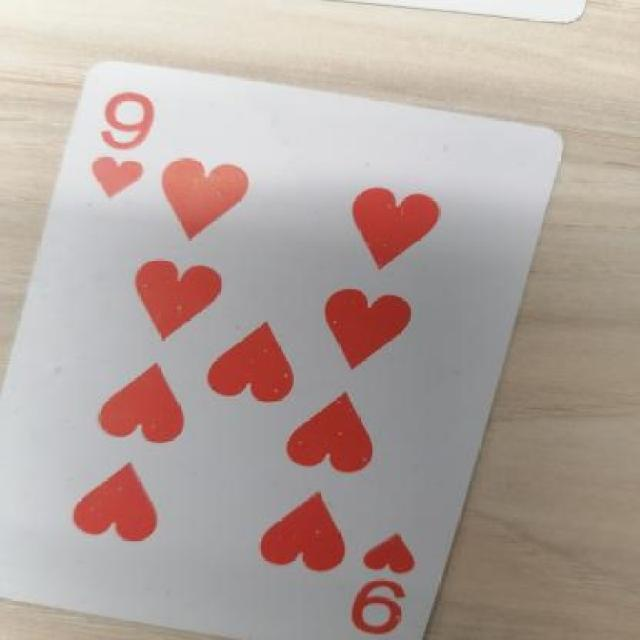9H: (77, 82, 186, 216), (341, 507, 421, 640)
